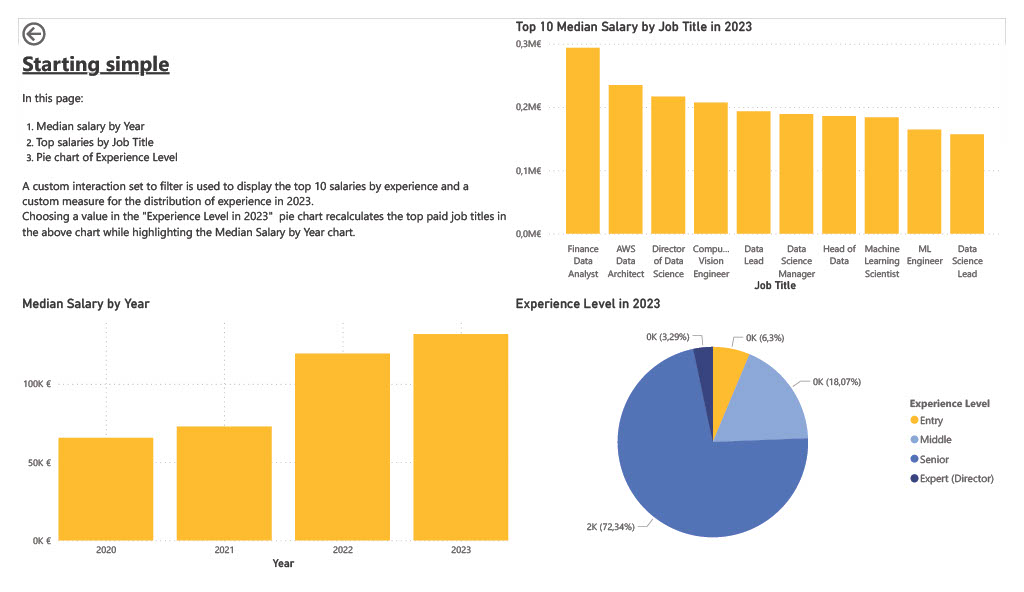

This screenshot's page, from the dashboard's own definition file:
{"tool":"powerbi","page":{"name":"Start simple","canvas":[1280,720],"ordinal":1},"visuals":[{"type":"columnChart","title":"Median Salary by Year","fields":{"Category":["Date Table.Year"],"Y":["Median(salaries.Salary in Euro)"]},"box":[0,359.9,640,359.9],"z":0},{"type":"columnChart","title":"Top 10 Median Salary by Job Title in 2023","fields":{"Y":["Avg(Salaries.Salary in Euro)"],"Category":["Salaries.job_title"]},"box":[640,0,640,359.5],"z":1000},{"type":"pieChart","title":"Experience Level in 2023","fields":{"Y":["Salaries.Experience Level in 2023"],"Category":["Salaries.Experience Level"]},"box":[640,359.9,640,359.9],"z":2000},{"type":"textbox","box":[0,0,640,359.9],"z":3000},{"type":"actionButton","box":[0,0,100,40],"z":4000}]}

Visuals, with their boxes in screenshot pixels (x1, y1, x2, y2), scaled from the page's 1280x720 canvas onto the 1024x592 screenshot:
"Median Salary by Year" columnChart: rect(0, 296, 512, 591)
"Top 10 Median Salary by Job Title in 2023" columnChart: rect(512, 0, 1023, 296)
"Experience Level in 2023" pieChart: rect(512, 296, 1023, 591)
textbox: rect(0, 0, 512, 296)
actionButton: rect(0, 0, 80, 33)
